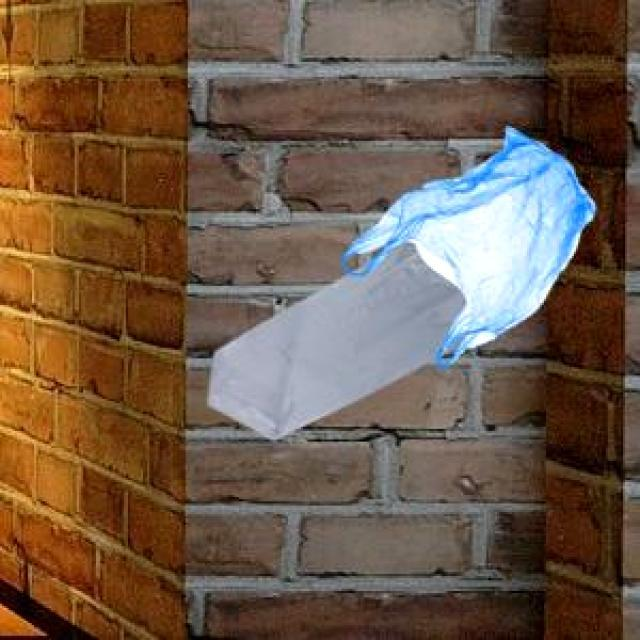Plastic_Bag: (340, 125, 592, 362), (203, 239, 464, 436)
